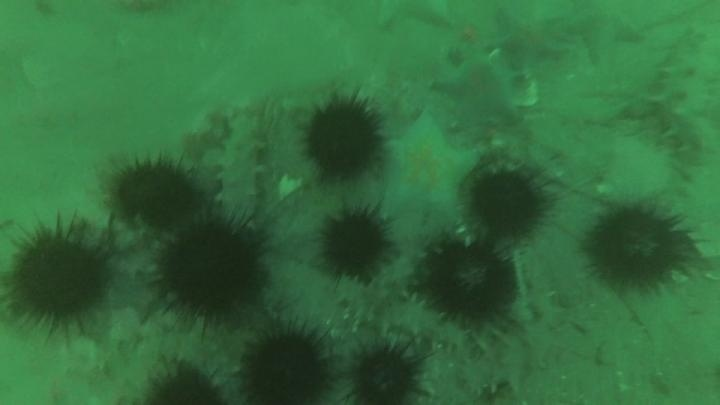echinus: (5, 222, 115, 333), (155, 219, 266, 324), (584, 202, 695, 293), (421, 239, 518, 327), (240, 328, 332, 404), (303, 97, 385, 181), (111, 158, 200, 230), (468, 168, 547, 240), (318, 208, 393, 279), (348, 340, 424, 405), (139, 358, 230, 405)
holothurian: (459, 282, 569, 400), (332, 275, 474, 354), (650, 29, 718, 161), (329, 252, 428, 327), (215, 108, 268, 225)
starfish: (377, 111, 482, 227), (431, 50, 526, 128), (490, 8, 572, 72), (556, 6, 645, 62), (111, 269, 169, 325), (374, 1, 455, 33)
